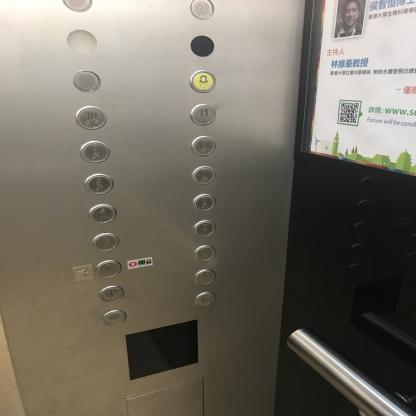1: (193, 245, 216, 262)
10: (74, 105, 107, 130)
11: (188, 103, 217, 126)
2: (90, 232, 119, 252)
3: (192, 219, 216, 238)
4: (87, 203, 116, 224)
5: (191, 194, 216, 214)
6: (84, 173, 113, 194)
7: (191, 165, 216, 185)
8: (78, 140, 111, 164)
9: (190, 135, 217, 156)
G: (95, 259, 122, 278)
LG: (193, 268, 216, 284)
alarm: (188, 69, 216, 94)
blur: (97, 285, 125, 303)
close: (193, 291, 216, 308)
empty: (65, 29, 99, 55), (188, 34, 216, 58)
led: (122, 318, 200, 382)
open: (101, 309, 127, 327)
s: (70, 263, 96, 282)
speaker: (72, 69, 102, 93), (188, 0, 216, 22)
